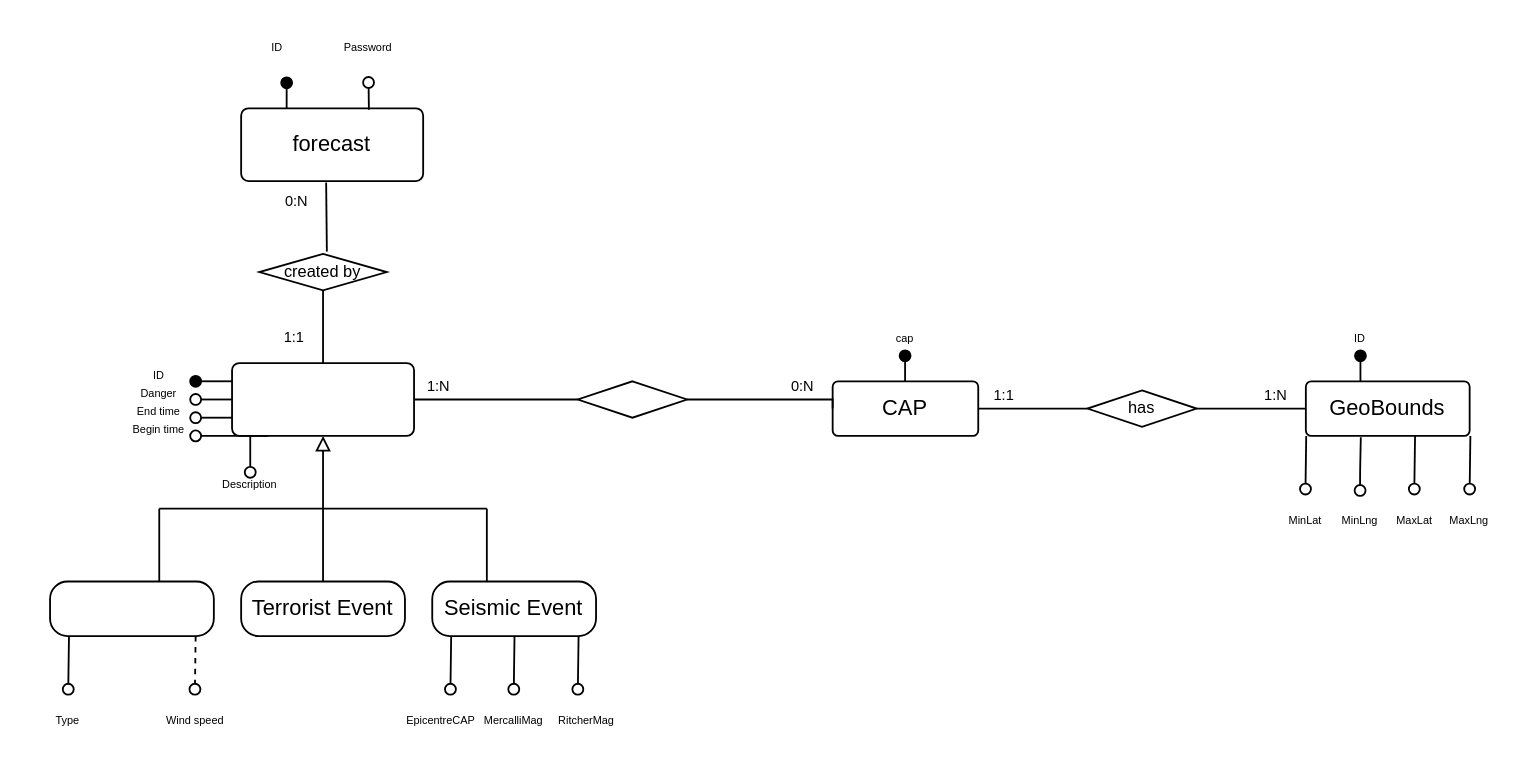
Some shapes in this 1536 by 761 pixel diagram are drawn without their labels. Each missing label, with the centre of its shape:
"belongs" belongs at point (631, 398).
"Event" belongs at point (322, 398).
"Weather Event" belongs at point (131, 608).
